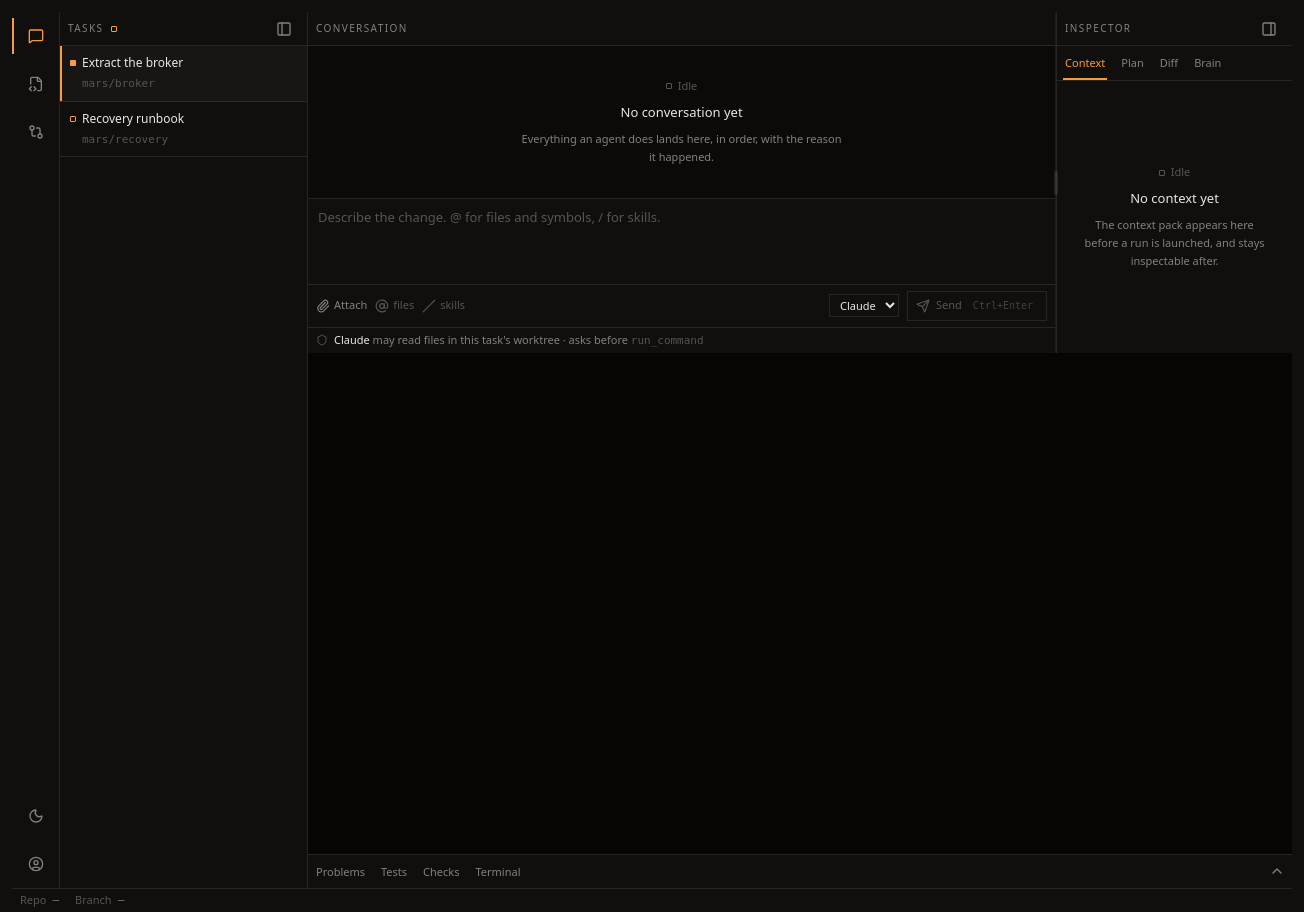
Test case: task rail › lists tasks with their state and collapses to a labelled strip
Expected: the element "Tasks" is shown, 60,12 -> 308,888
Expected: the text "Extract the broker" is shown, 82,54 -> 183,72
Click the button named "Collapse tasks" at x=284, y=28, box 269,12 -> 299,44
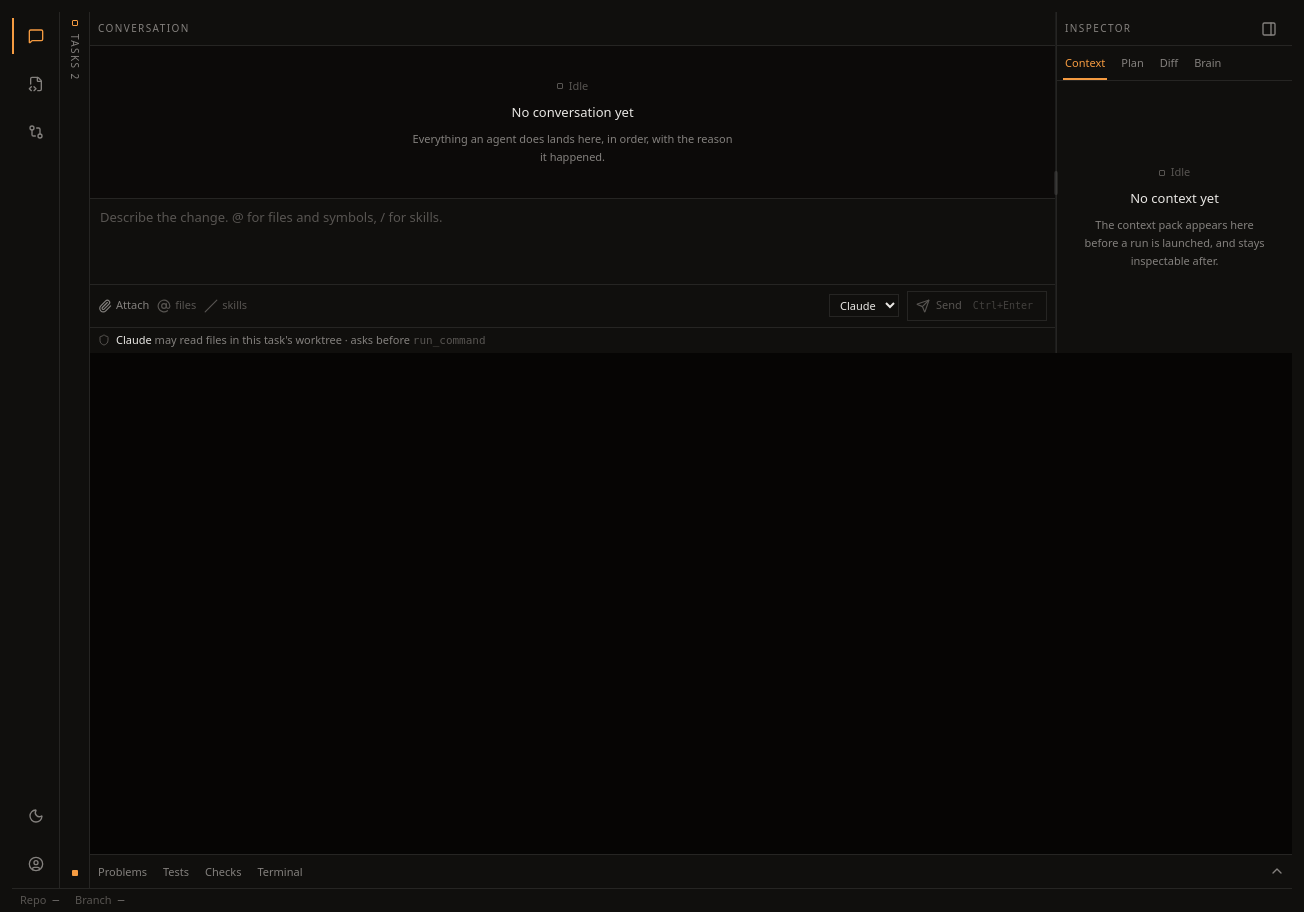
Result: the button "Tasks 2" is shown
Click the button "Tasks 2" at x=74, y=441, box 67,20 -> 82,862
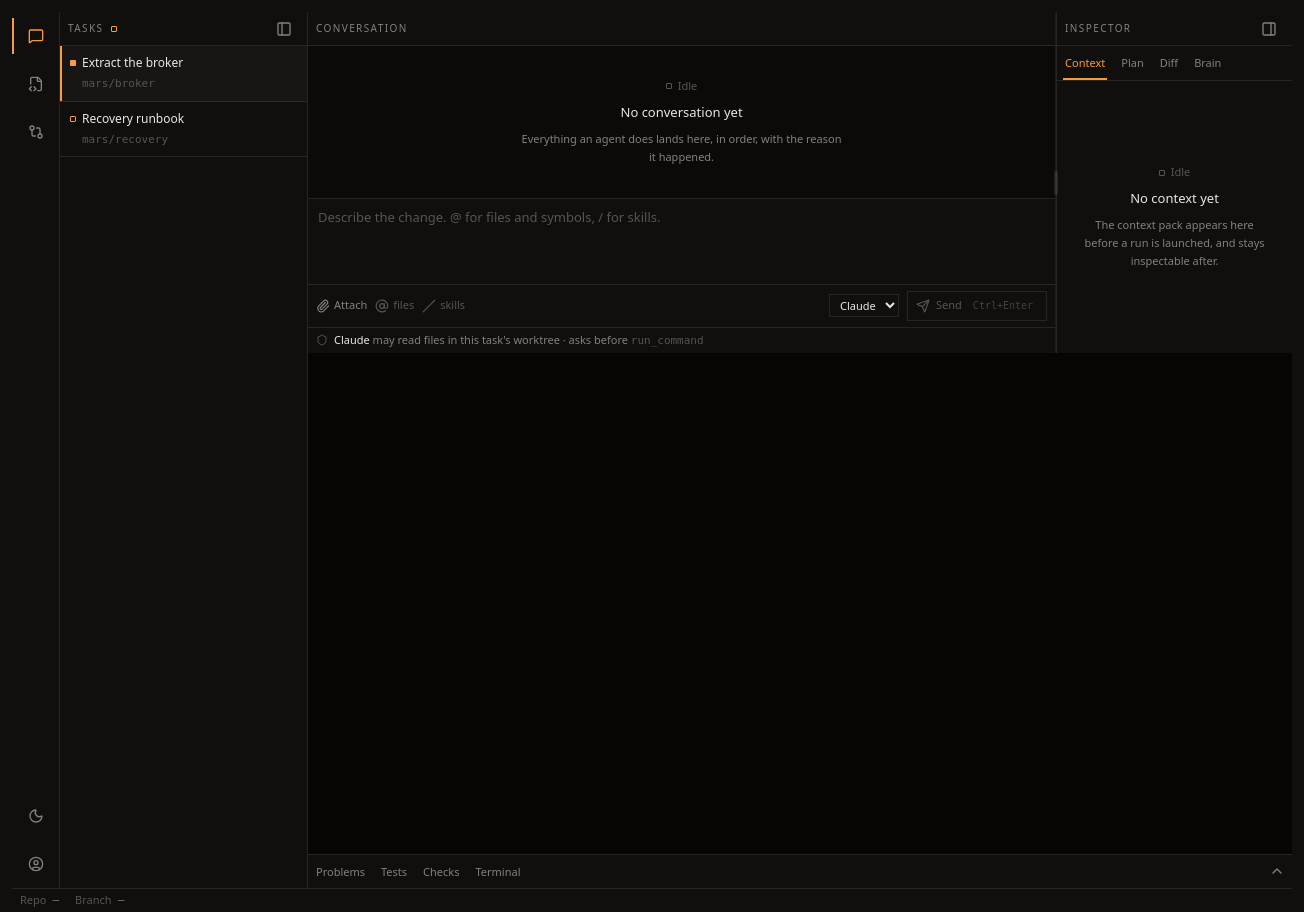
Result: the element "Tasks" is shown at 60,12 -> 308,888
